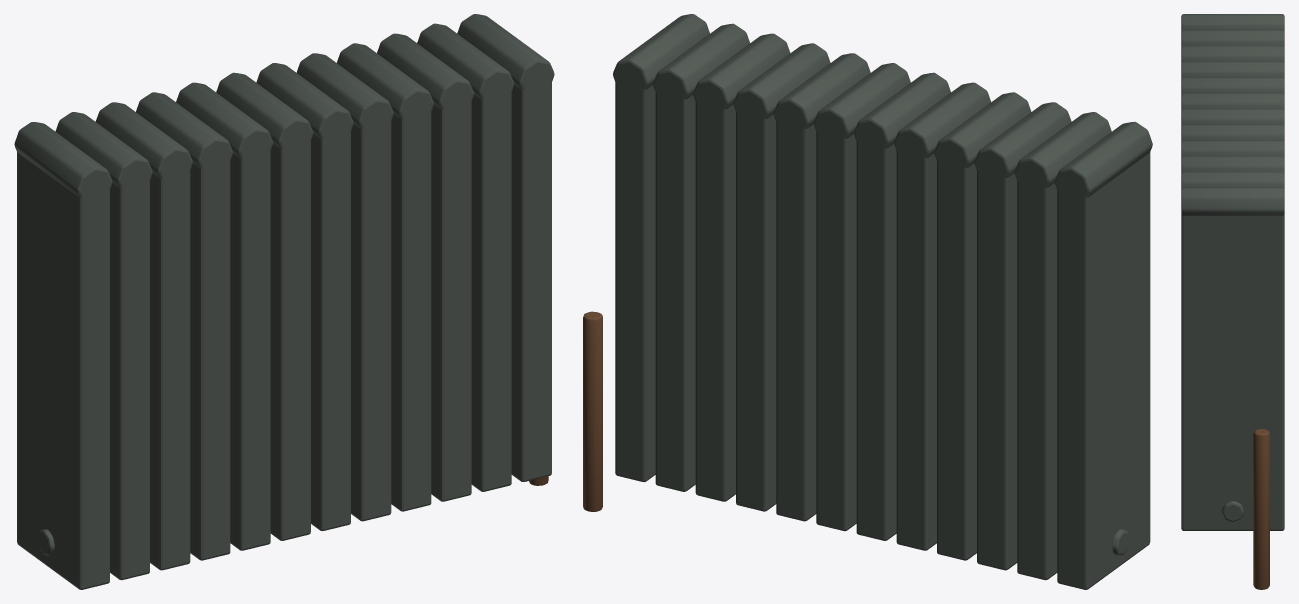
Rendered from PROP_Radiator_Cast_Iron.glb.
3 renders of one model, left to right at view 1: azimuth 30°, elevation 25°; view 2: azimuth 150°, elevation 25°; view 3: azimuth 270°, elevation 25°, orthographic. The views are drawn at different scales.
Visible parts, largest first — view 1: PROP_Radiator_Cast_Iron_Mesh; view 2: PROP_Radiator_Cast_Iron_Mesh; view 3: PROP_Radiator_Cast_Iron_Mesh.
Part boxes in pixels (x1,y1,x2,y2): PROP_Radiator_Cast_Iron_Mesh: [14, 14, 554, 589]; PROP_Radiator_Cast_Iron_Mesh: [583, 14, 1152, 589]; PROP_Radiator_Cast_Iron_Mesh: [1181, 14, 1284, 589].
Size of what is drawn, in the model's own units: 0.8441 by 0.7294 by 0.18.
